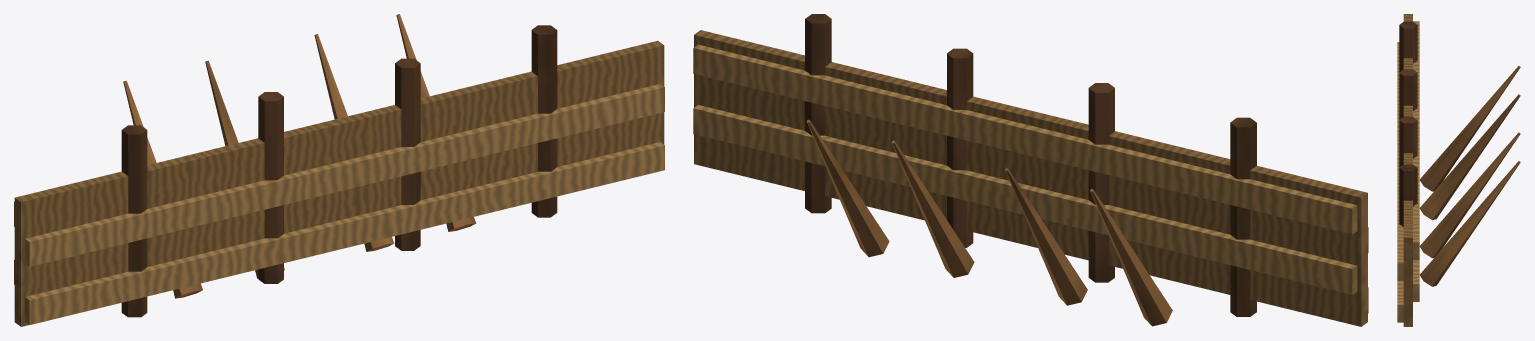
The model's file is fort_l1_edge.glb.
The picture shows the model from 3 angles, left to right: view 1: azimuth 30°, elevation 25°; view 2: azimuth 150°, elevation 25°; view 3: azimuth 270°, elevation 25°; orthographic projection. The views are drawn at different scales.
Visible parts, largest first — view 1: fort_l1_edge; view 2: fort_l1_edge; view 3: fort_l1_edge.
Boxes of the visible parts, box(x1,y1,x2,y2) form: fort_l1_edge: box(14, 14, 664, 326); fort_l1_edge: box(693, 14, 1368, 326); fort_l1_edge: box(1397, 14, 1520, 326).
Bounding box in the file's own units: 0.81 × 0.2392 × 0.1886.
1 material, 1 textured.
